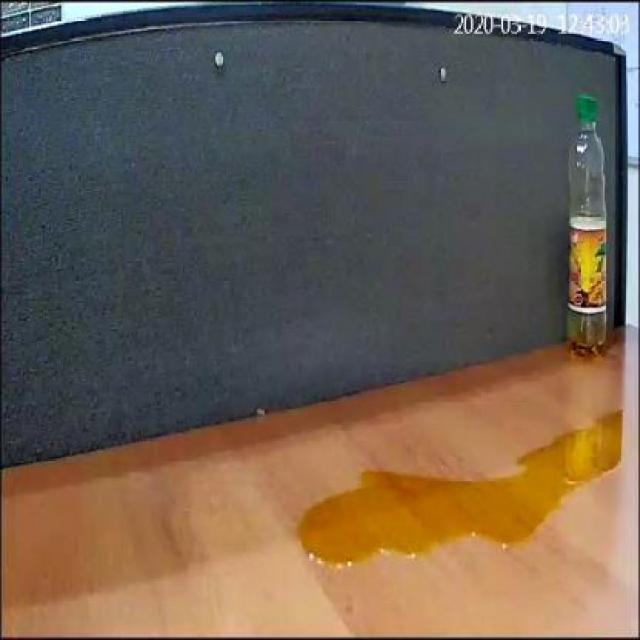spill: (300, 405, 632, 570)
